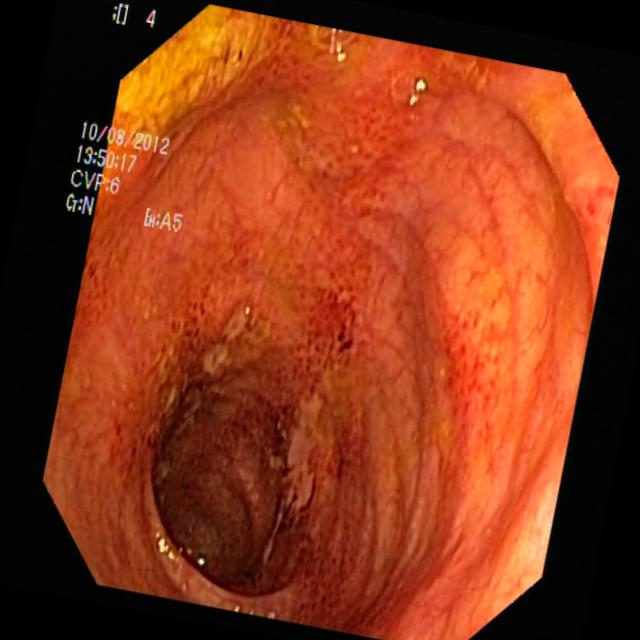ulcerative-colities: (139, 229, 395, 626), (95, 1, 311, 191), (434, 306, 517, 479)
